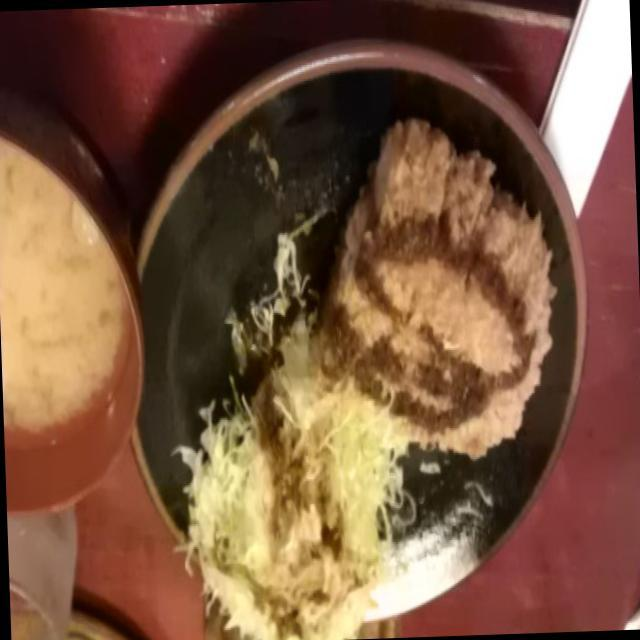Green Salad: (178, 423, 385, 640)
